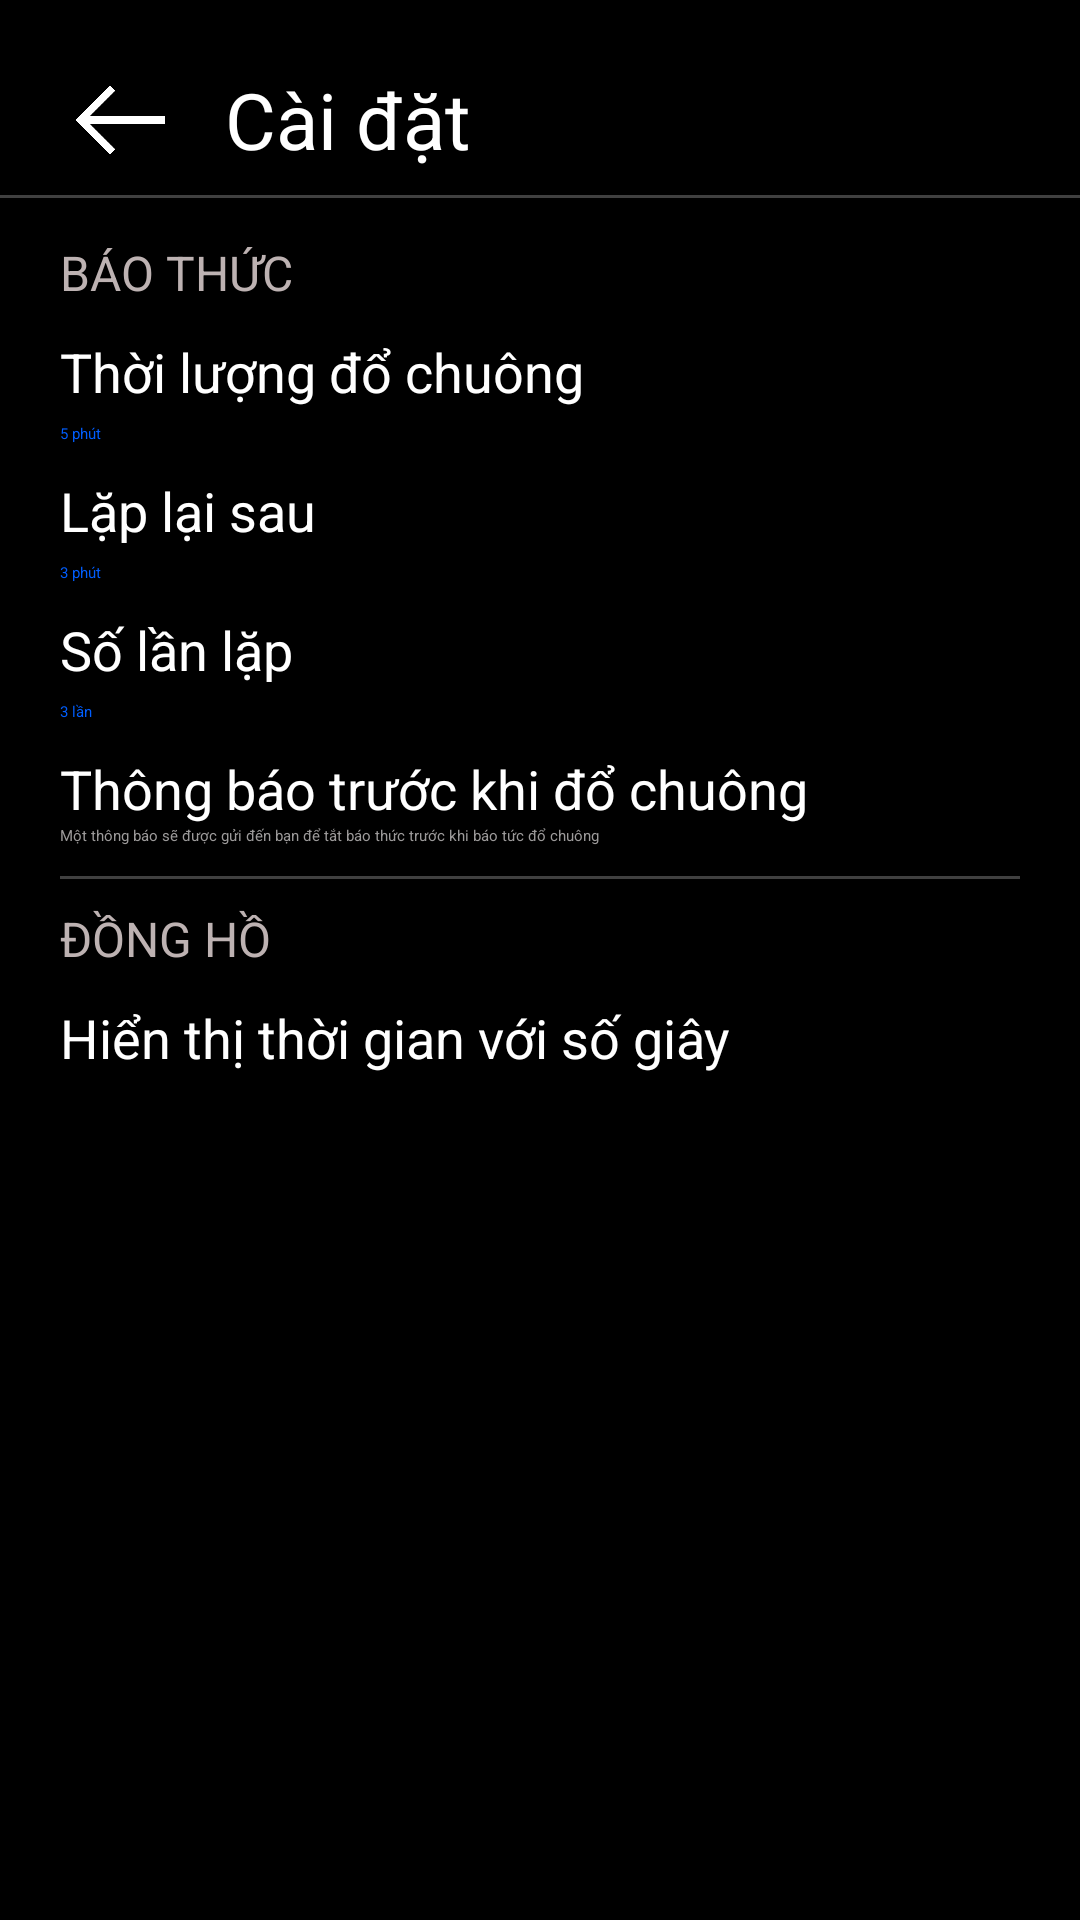

Where to tap for icons on this 1080px×1920px app screen, as point (x, y):
arrow left: point (120, 120)
